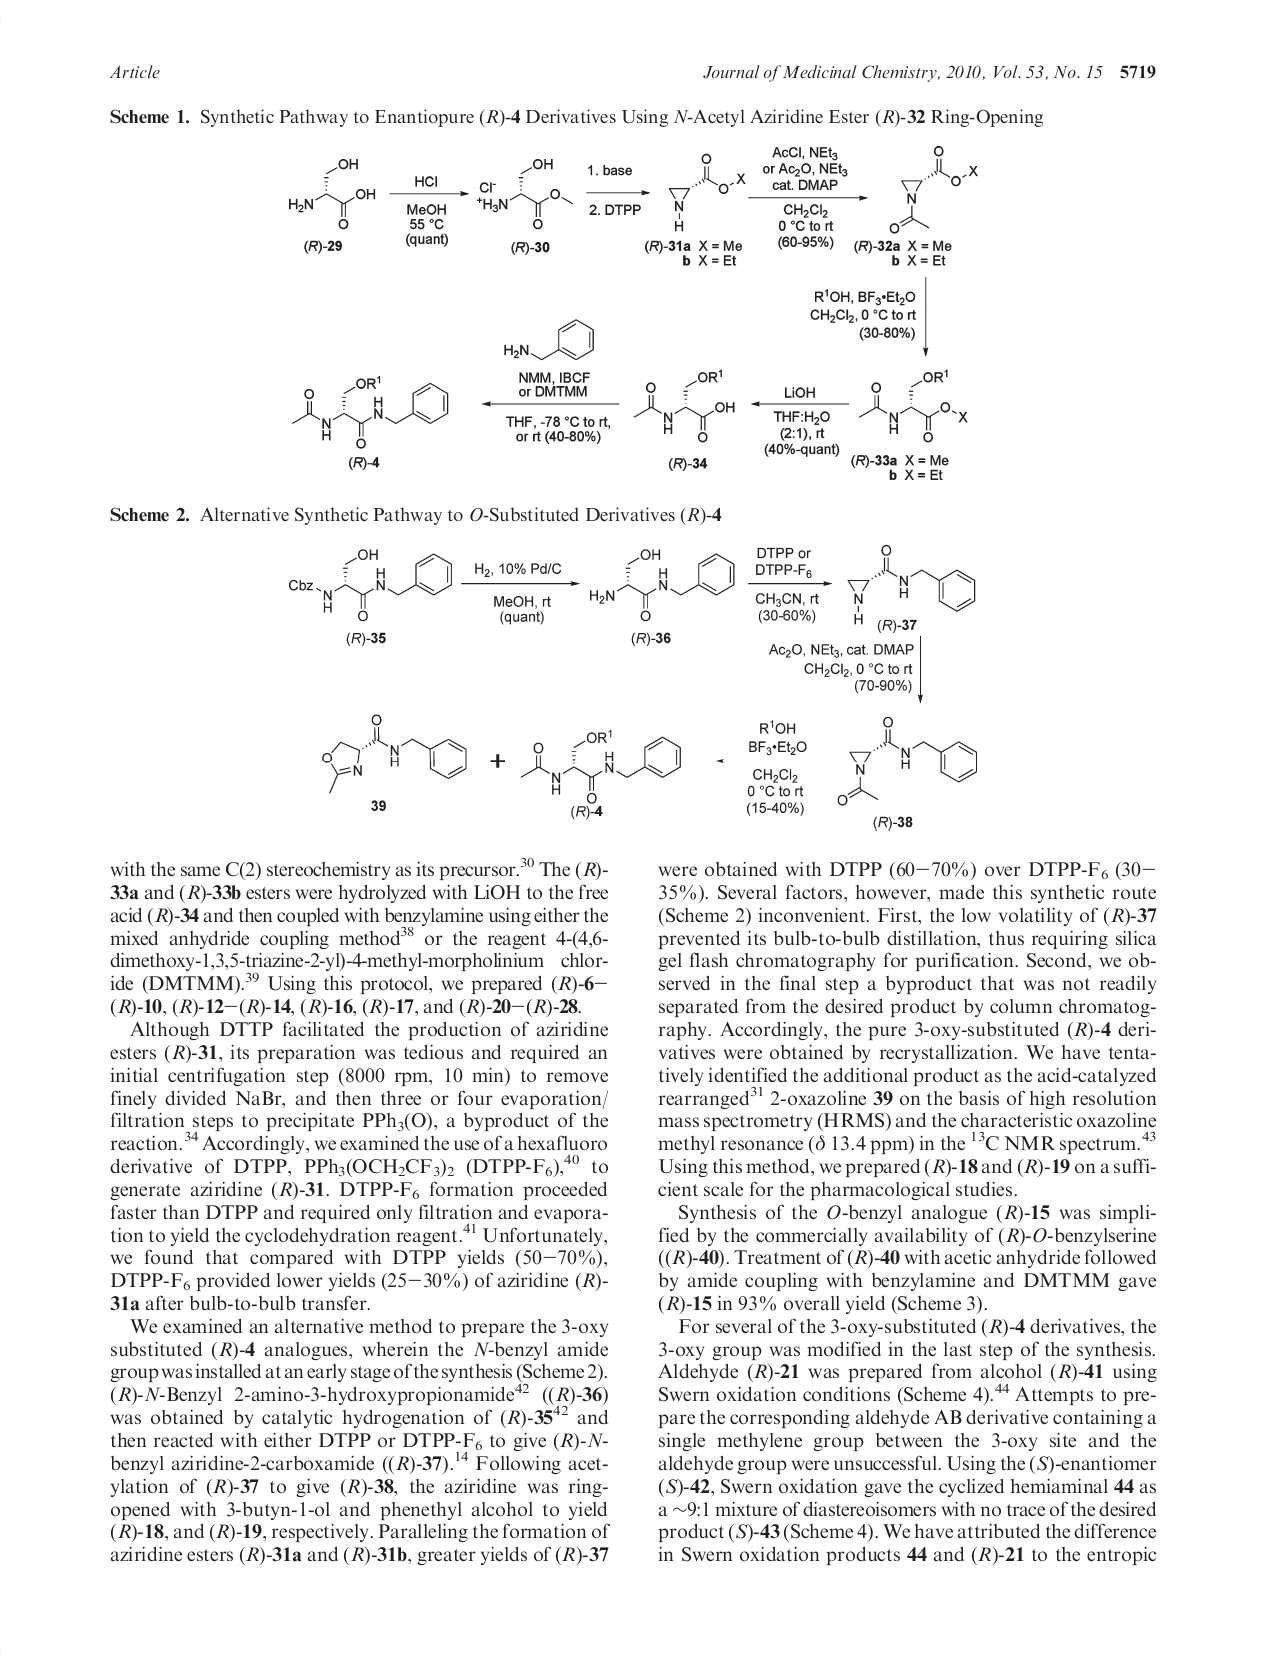exist_molecular: (836, 715, 980, 809), (519, 727, 684, 805), (322, 711, 469, 797), (291, 372, 452, 449), (286, 548, 453, 621), (586, 547, 737, 625), (846, 541, 977, 626), (858, 366, 971, 443), (886, 144, 981, 234), (633, 366, 737, 444), (477, 157, 573, 231), (285, 156, 378, 230), (668, 150, 747, 234), (501, 317, 596, 363)
